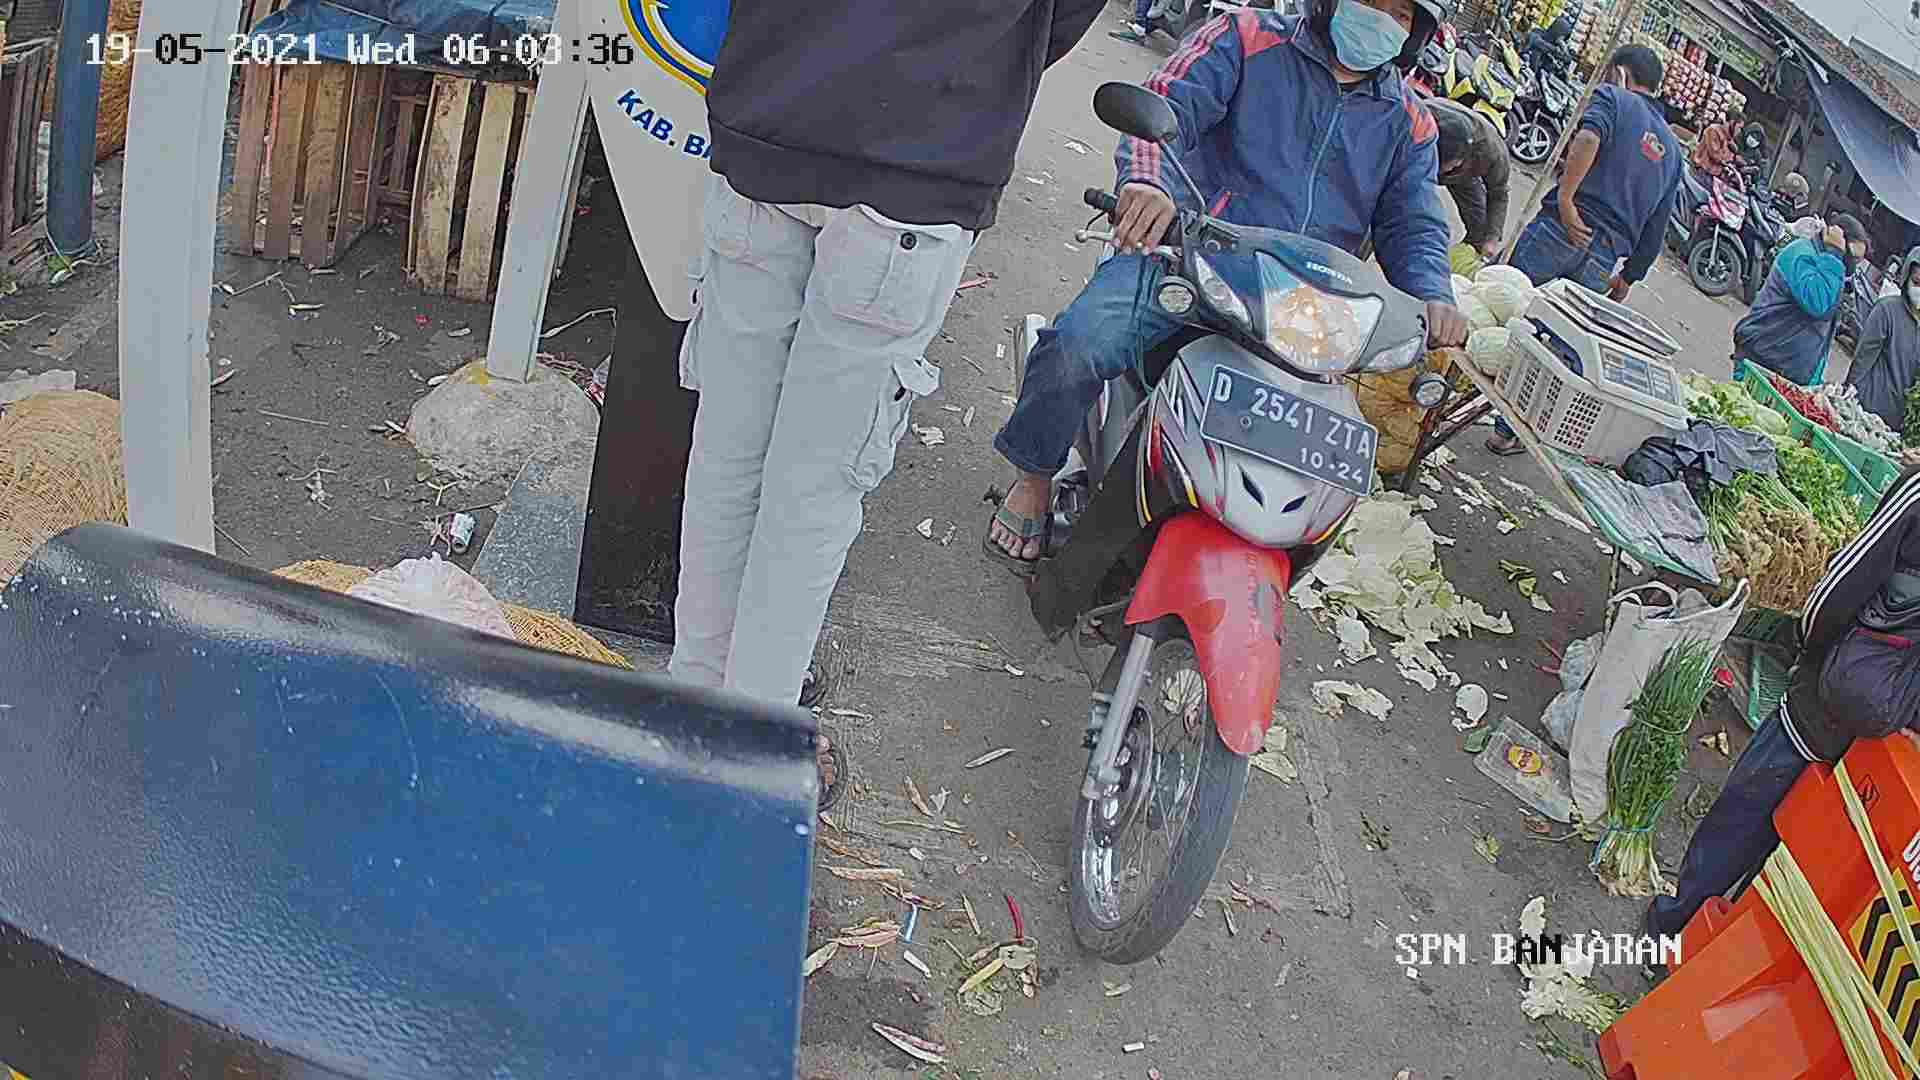motor: (1000, 189, 1396, 965)
